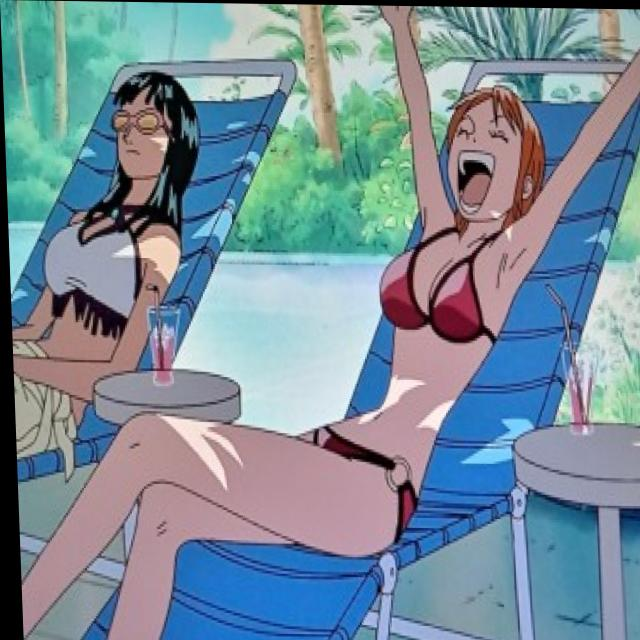Nami: (425, 63, 559, 235)
NicoRobin: (94, 49, 218, 222)
